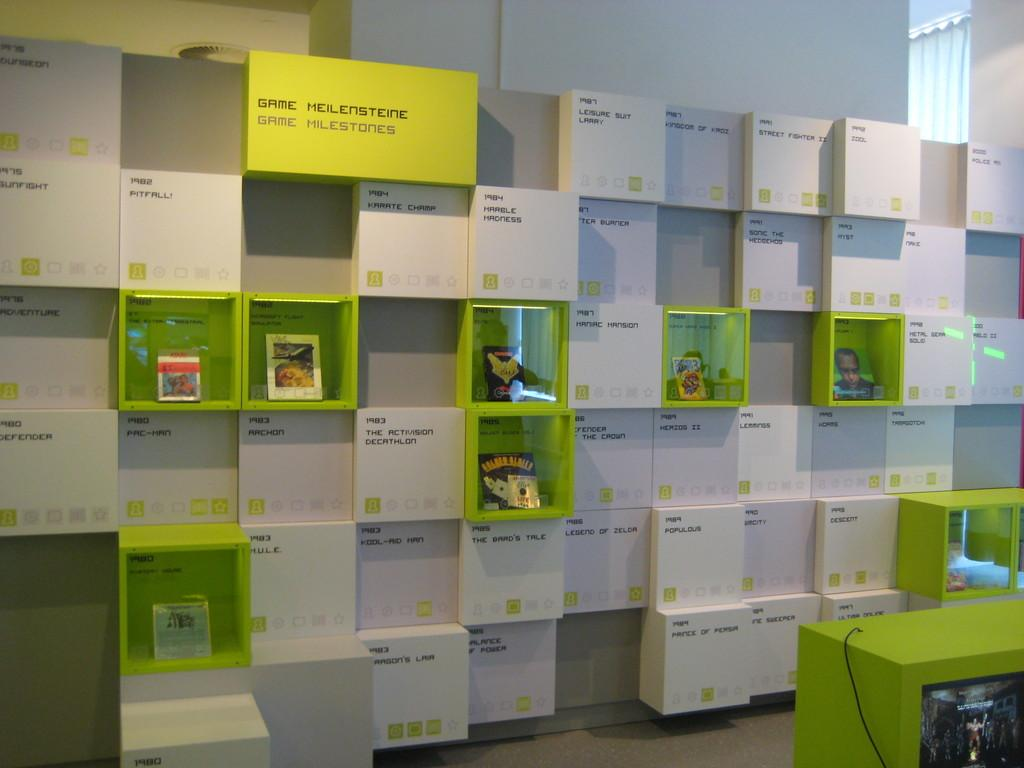Book: (265, 333, 322, 400), (478, 451, 539, 509), (156, 353, 201, 402)
